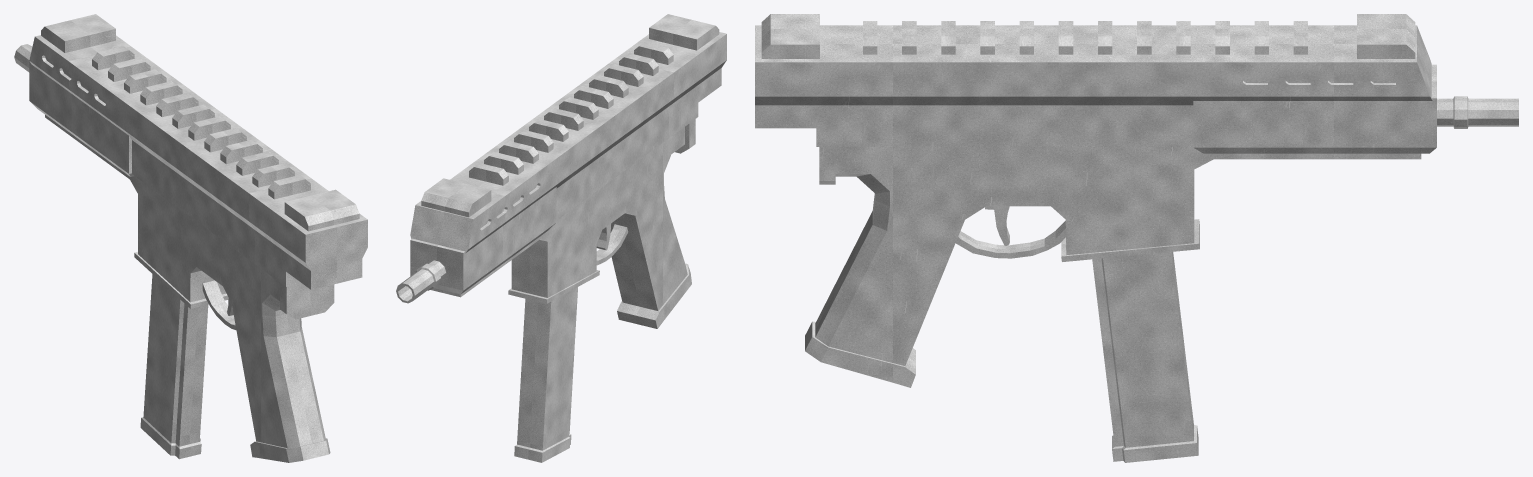
The model's file is smg2.obj.
The picture shows the model from 3 angles, left to right: view 1: azimuth 30°, elevation 25°; view 2: azimuth 150°, elevation 25°; view 3: azimuth 270°, elevation 25°; orthographic projection. The views are drawn at different scales.
Visible parts, largest first — view 1: SubmachineGun_1_Cube.083; view 2: SubmachineGun_1_Cube.083; view 3: SubmachineGun_1_Cube.083.
Boxes of the visible parts, x1,y1,x2,y2 form: SubmachineGun_1_Cube.083: (14, 14, 367, 462); SubmachineGun_1_Cube.083: (396, 14, 726, 462); SubmachineGun_1_Cube.083: (755, 14, 1518, 462).
Bounding box in the file's own units: 0.0796 × 0.4272 × 0.6929.
Materials: 4 (4 with a texture image).
